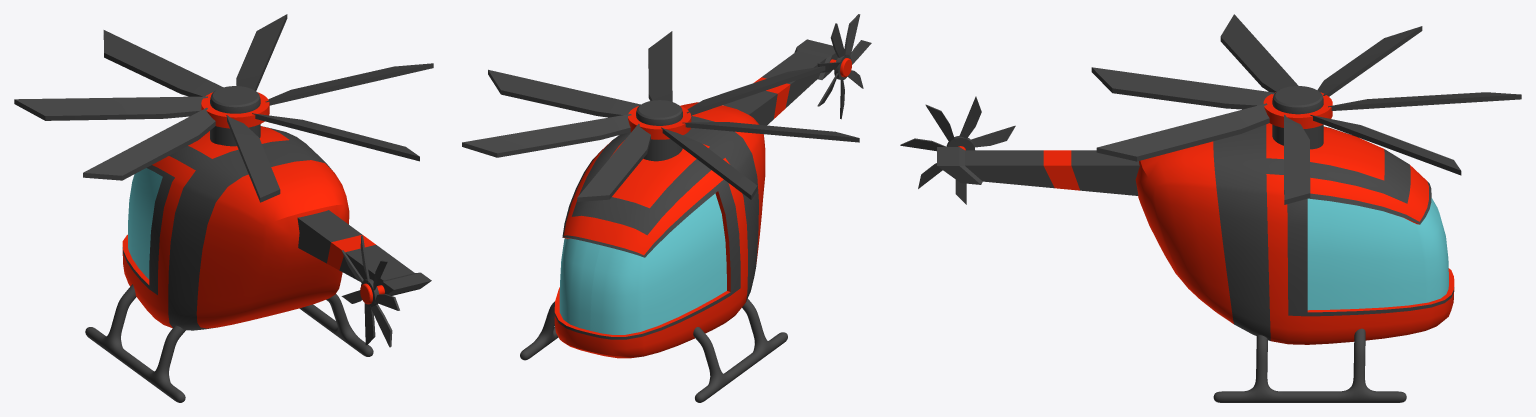
Rendered from HelicopterBot.fbx.
The picture shows the model from 3 angles, left to right: view 1: azimuth 30°, elevation 25°; view 2: azimuth 150°, elevation 25°; view 3: azimuth 270°, elevation 25°; orthographic projection. The views are drawn at different scales.
Visible parts, largest first — view 1: Helicopter, TopBlades, RearBlades; view 2: Helicopter, TopBlades, RearBlades; view 3: Helicopter, TopBlades, RearBlades.
Part boxes in pixels (x1,y1,x2,y2): Helicopter: (85, 126, 431, 402); TopBlades: (14, 14, 433, 202); RearBlades: (341, 235, 399, 347); Helicopter: (520, 39, 837, 402); TopBlades: (462, 31, 859, 201); RearBlades: (817, 14, 871, 119); Helicopter: (937, 123, 1454, 402); TopBlades: (1091, 14, 1521, 204); RearBlades: (900, 96, 1015, 204).
Size of the model in its own units: 4.48 by 2.92 by 6.32.
